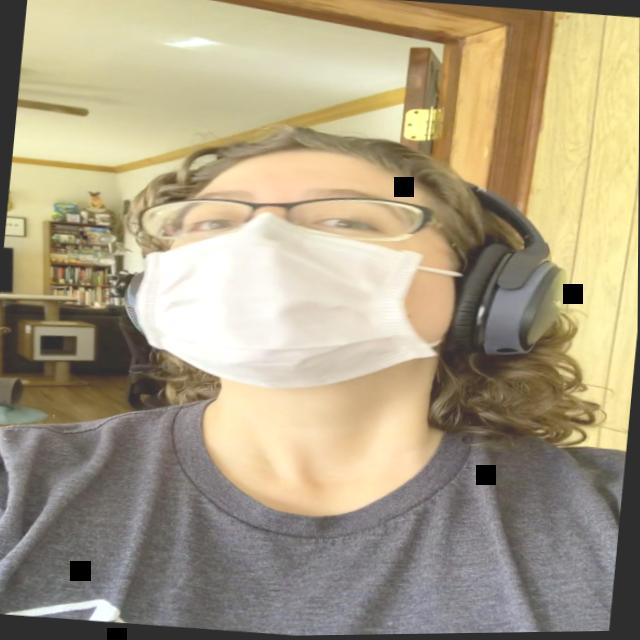Mask: (129, 129, 481, 407)
